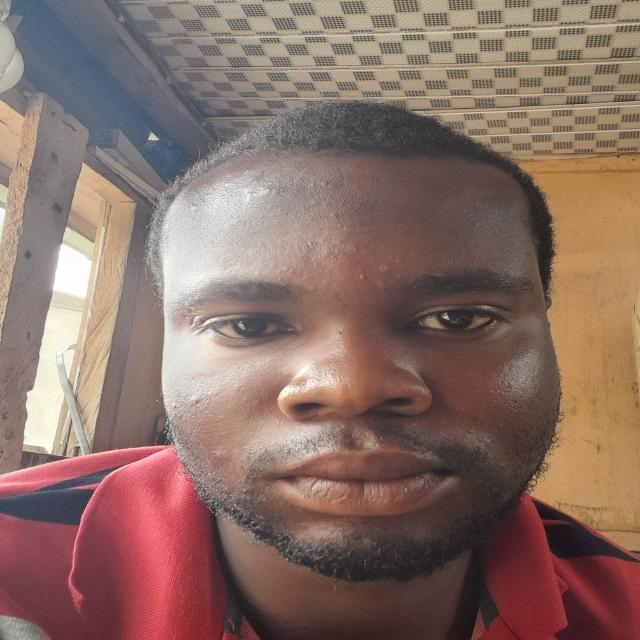Acne: (308, 179, 329, 189), (188, 394, 202, 406), (469, 414, 483, 425), (260, 186, 274, 194), (282, 266, 296, 274), (378, 264, 391, 272), (356, 273, 368, 281), (299, 520, 308, 530)
Englarged-Pores: (166, 372, 222, 433), (484, 366, 538, 422), (442, 355, 498, 378), (232, 356, 274, 379)
